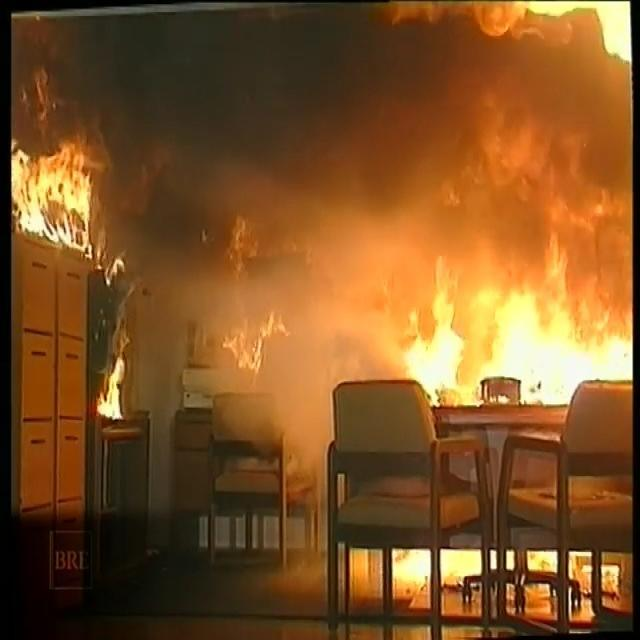Fire: (412, 258, 622, 387), (14, 86, 108, 247), (99, 332, 128, 418)
